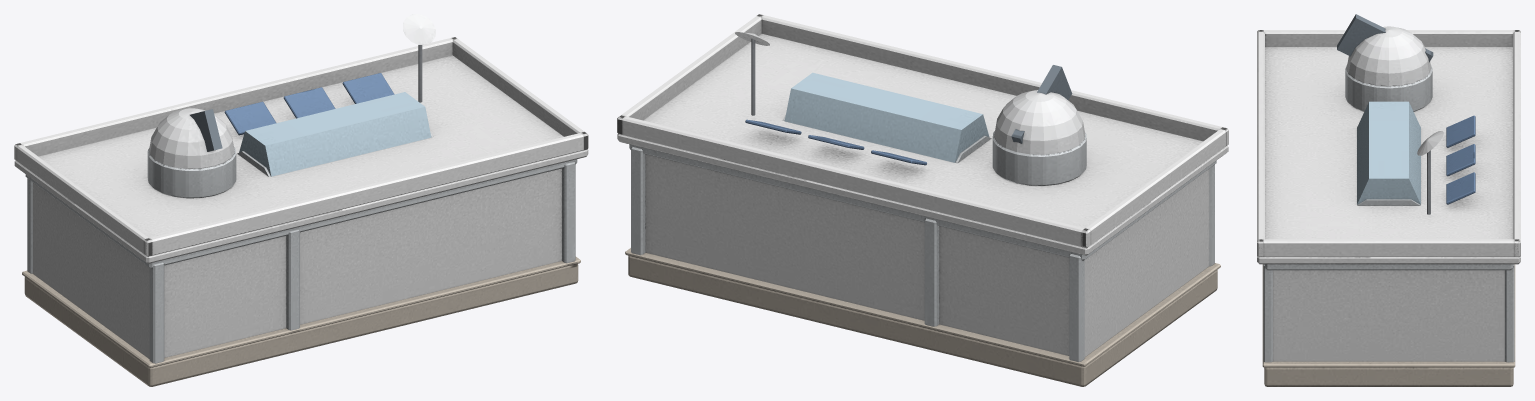
The model's file is labor.glb.
3 renders of one model, left to right at view 1: azimuth 30°, elevation 25°; view 2: azimuth 150°, elevation 25°; view 3: azimuth 270°, elevation 25°, orthographic. The views are drawn at different scales.
Visible parts, largest first — view 1: Wand, Dach; view 2: Wand, Dach; view 3: Dach, Wand.
Boxes of the visible parts, bbox=[...] form: Wand: bbox=[22, 14, 580, 386]; Dach: bbox=[14, 37, 588, 263]; Wand: bbox=[625, 32, 1220, 386]; Dach: bbox=[617, 14, 1228, 255]; Dach: bbox=[1257, 30, 1520, 264]; Wand: bbox=[1262, 14, 1515, 386].
Size of the model in its own units: 6.3 by 3.02 by 3.3.
1 material, 1 textured.
